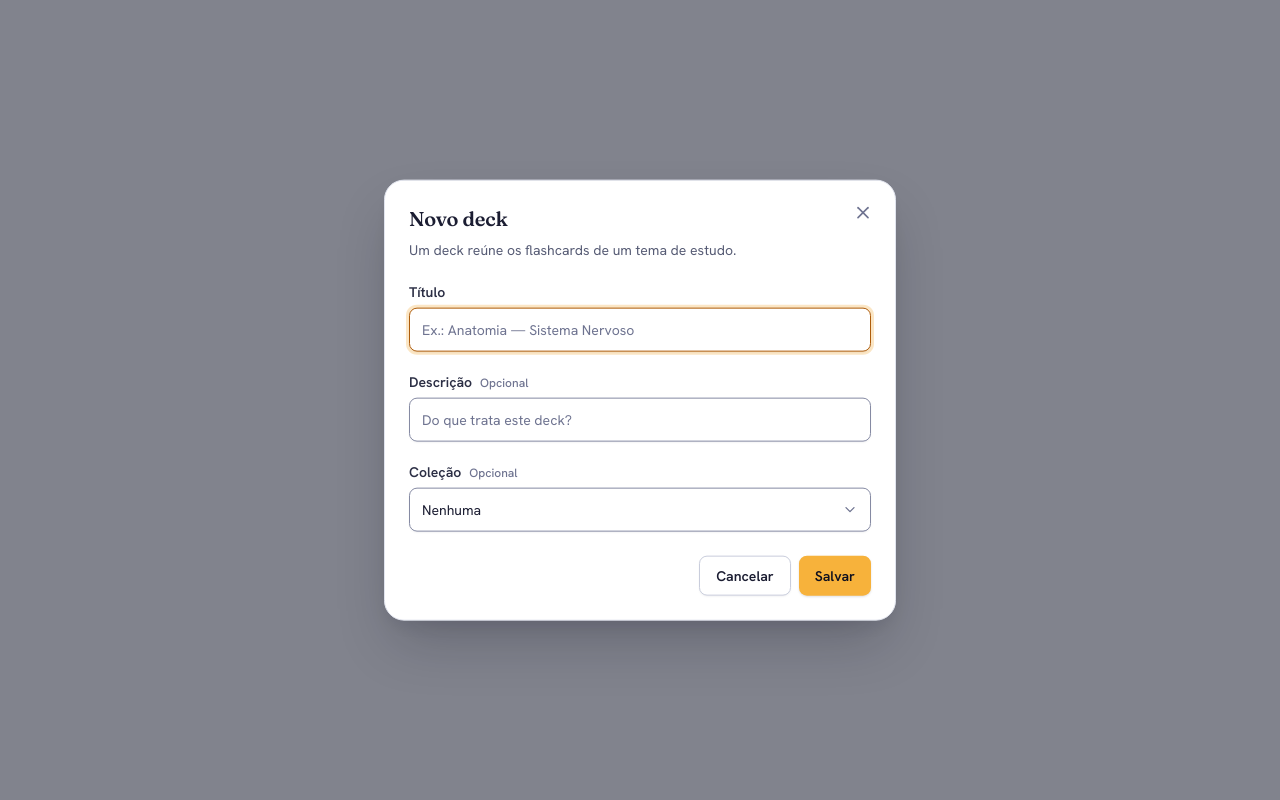
Scenario: DeckFormDialog › bloqueia o envio e mostra erro quando o título está vazio (E1)
What coordinates should you click on to do the following:
click the button "Salvar"
I would click on:
 (835, 575)
Its box is x1=799 y1=555 x2=871 y2=595.
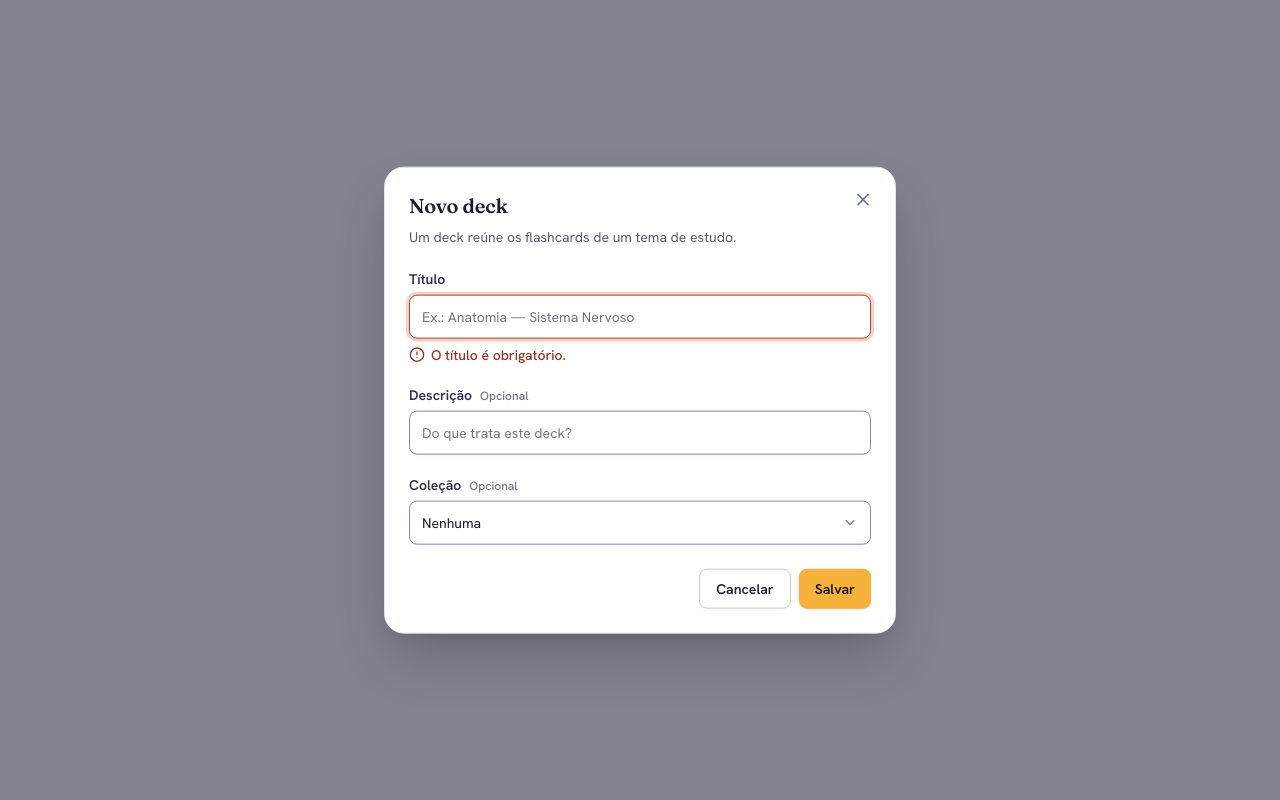
Now the text "O título é obrigatório." is shown, box x1=431 y1=344 x2=566 y2=364
